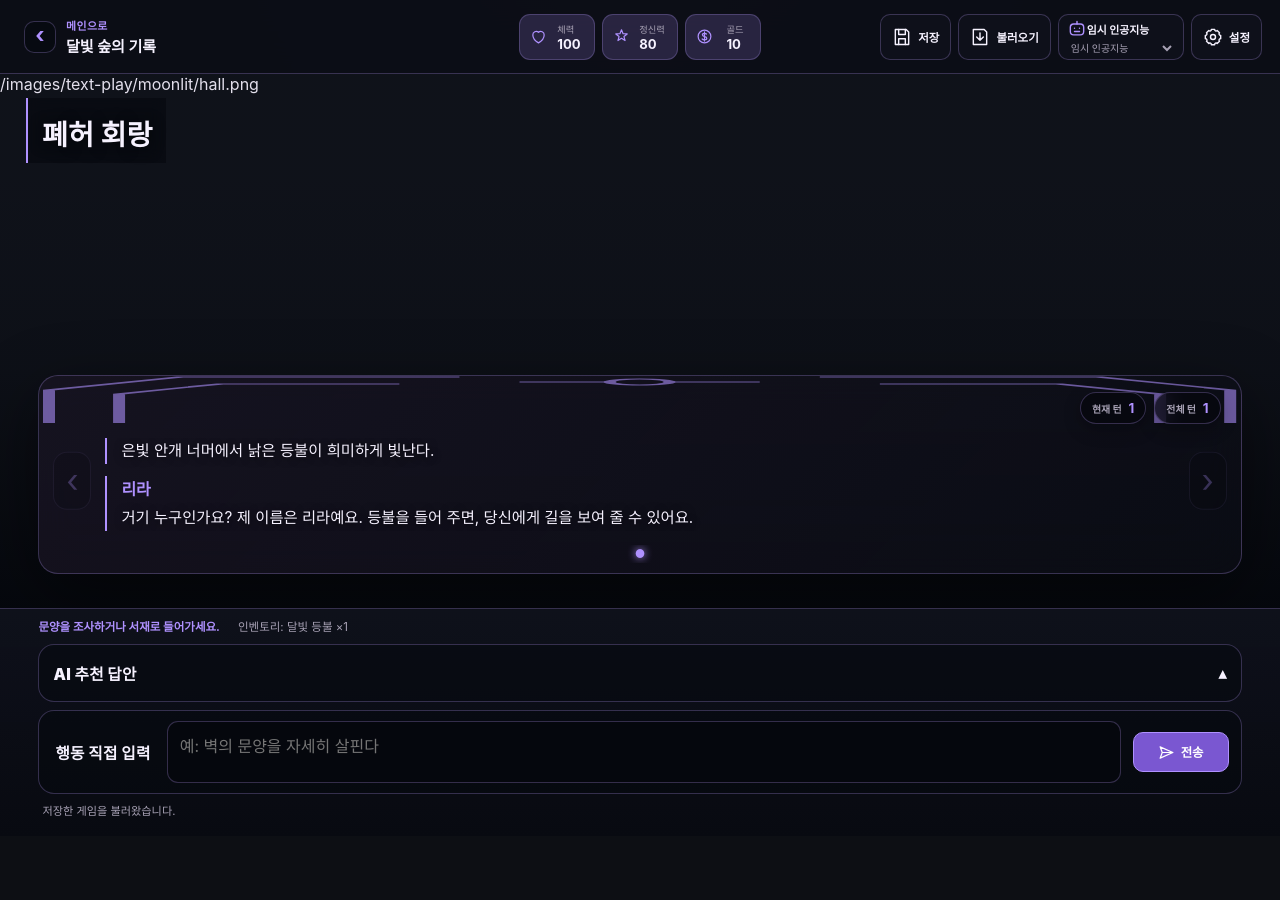
Test: Text-Play 저장 흐름 › 자동 저장 슬롯을 이어하기 모드에서 복원한다
This screenshot has width=1280, height=900.
expect the heading "폐허 회랑" is shown: met, box left=42, top=112, right=152, bottom=153
What coordinates should you click on to do the following:
click the button with aria-label "상태 패널 열기"
I would click on:
 (640, 36)
Its box is left=519, top=14, right=761, bottom=60.
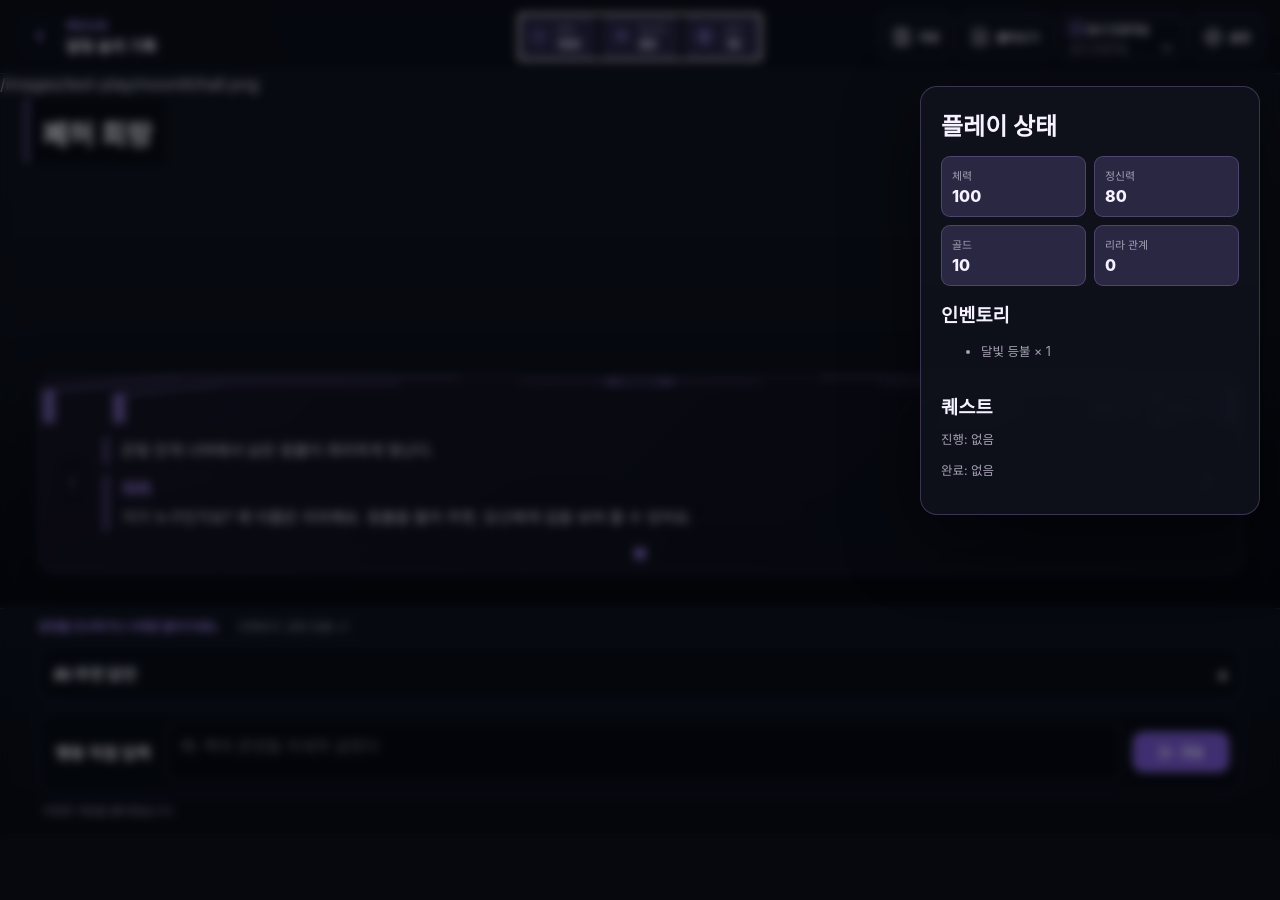
expect the list item "달빛 등불 × 1" is shown: met, box left=981, top=344, right=1051, bottom=359
